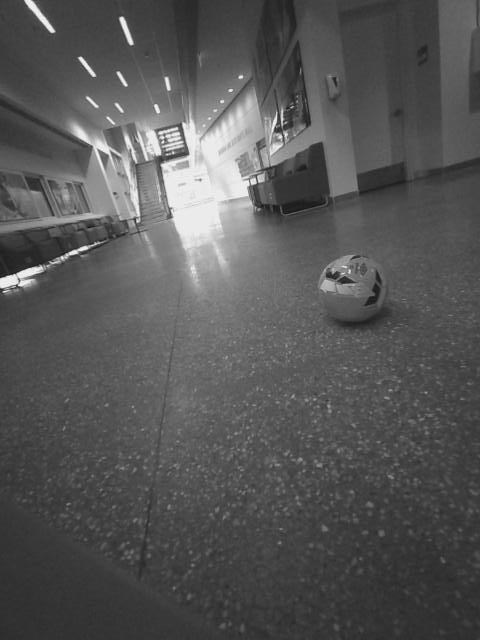ball: (308, 249, 395, 327)
